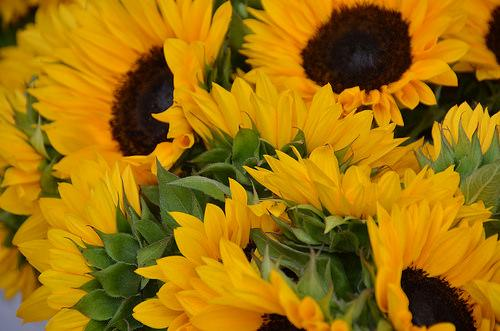sunflower: (34, 0, 230, 179), (151, 195, 370, 331), (234, 1, 500, 101), (364, 201, 500, 331)
